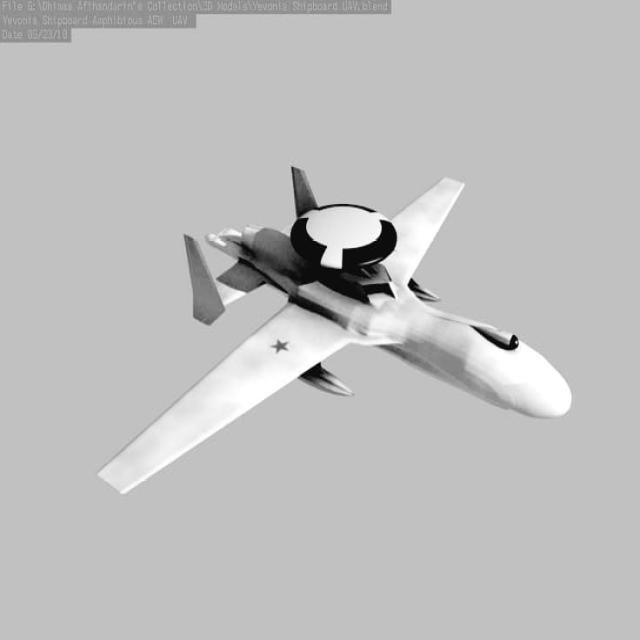iha: (37, 167, 570, 492)
